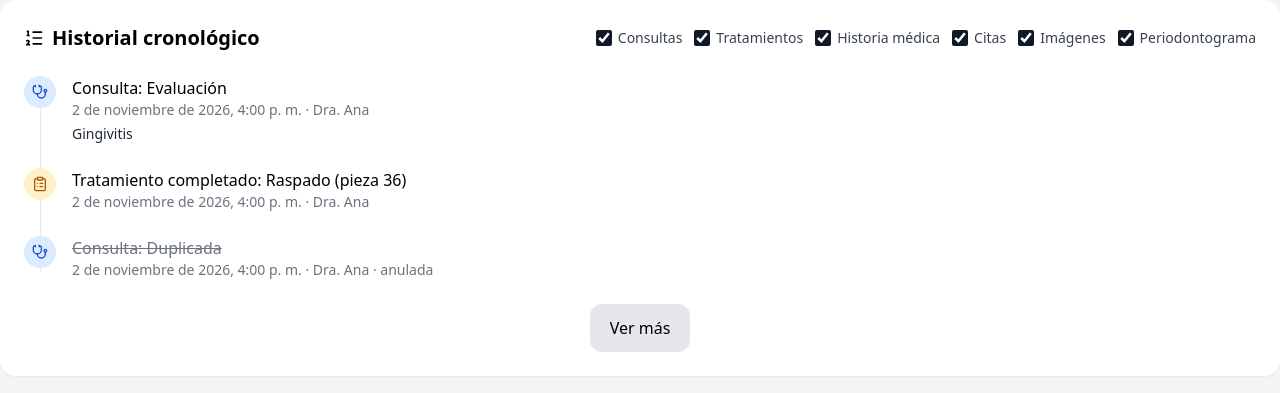
TimelineCard › sin tipos elegidos no consulta y lo indica
This screenshot has width=1280, height=393.
Expected: the text "Consulta: Evaluación" is shown, [72, 77, 227, 99]
Click the checkbox labelled "Consultas" at point(604, 38), box [596, 30, 612, 46]
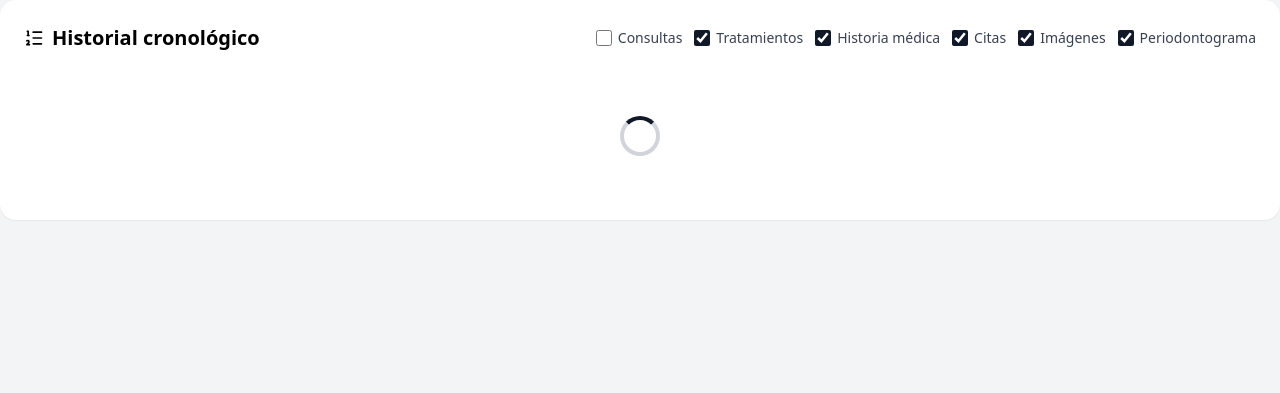
Click the checkbox labelled "Tratamientos" at point(702, 38), box [694, 30, 710, 46]
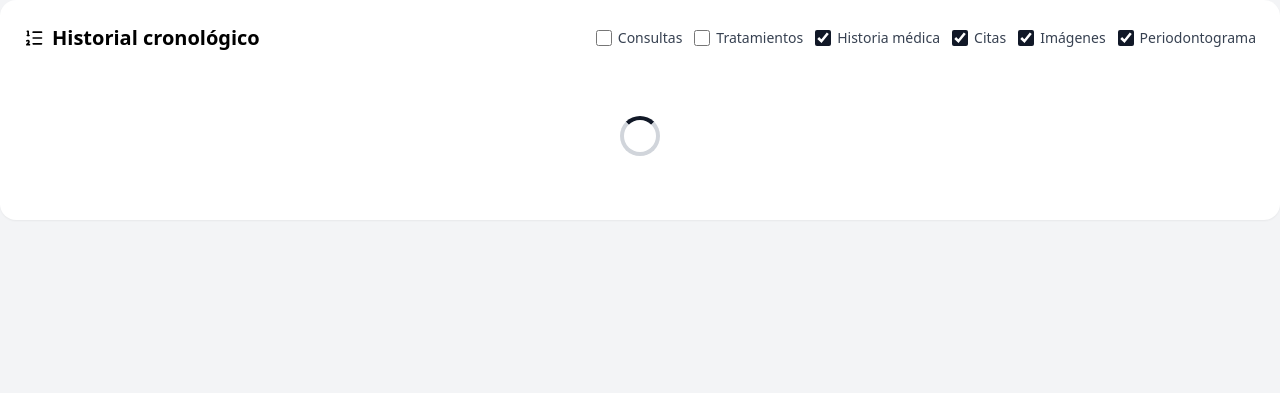
Click the checkbox labelled "Historia médica" at point(823, 38), box [815, 30, 831, 46]
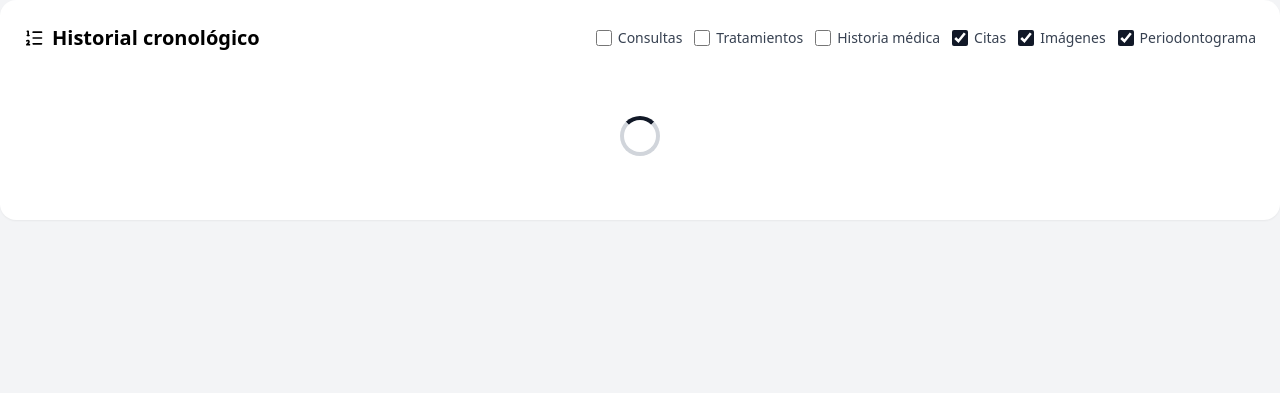
Click the checkbox labelled "Citas" at point(960, 38), box [952, 30, 968, 46]
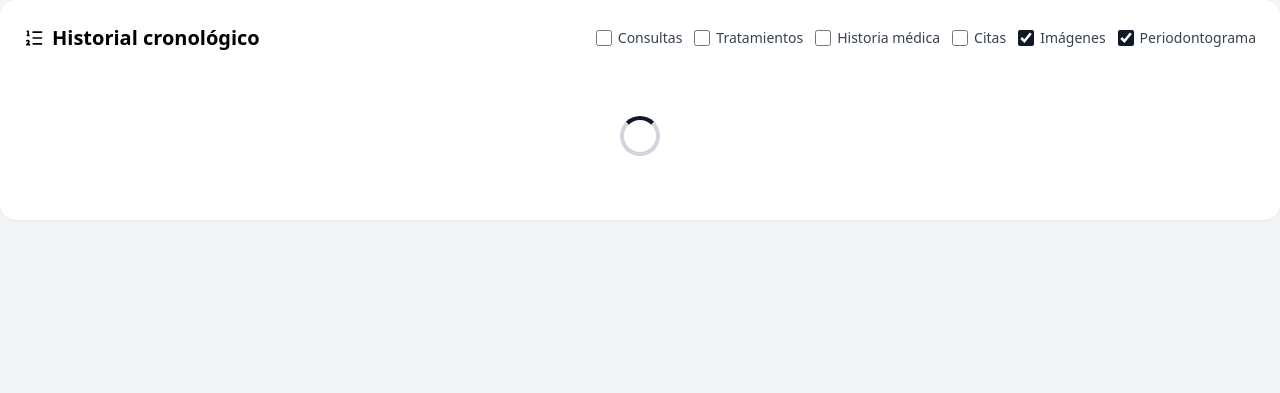
Click the checkbox labelled "Imágenes" at point(1026, 38), box [1018, 30, 1034, 46]
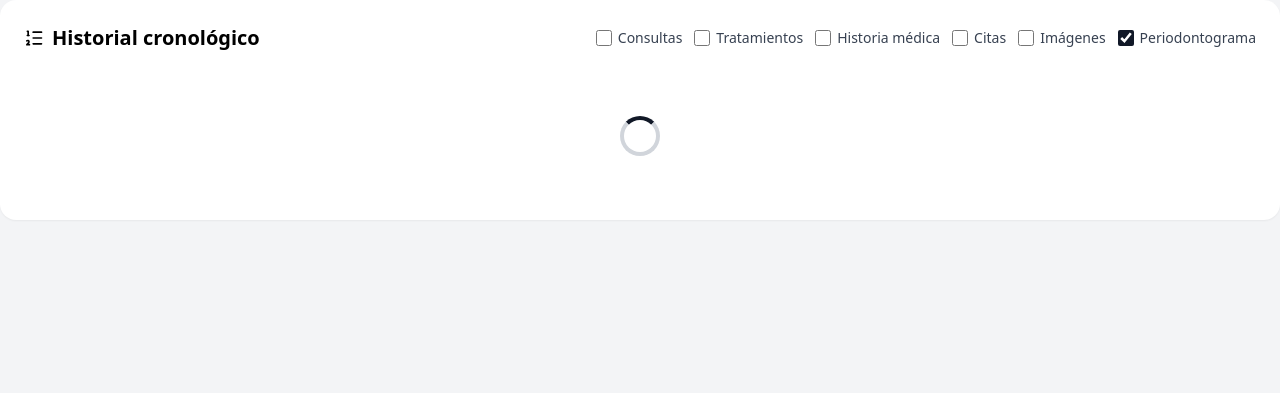
Click the checkbox labelled "Periodontograma" at point(1126, 38), box [1118, 30, 1134, 46]
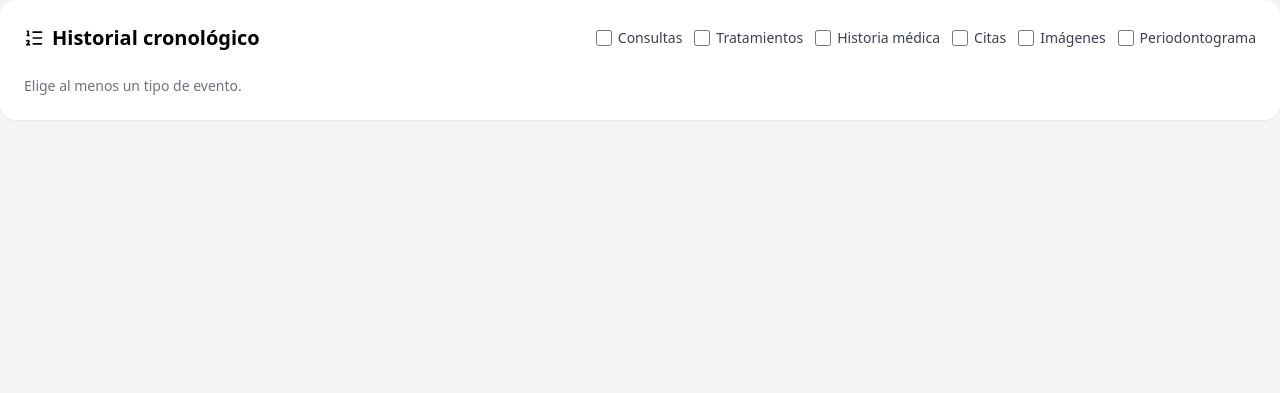
Expected: the text "Elige al menos un tipo de evento." is shown, [24, 76, 242, 95]
